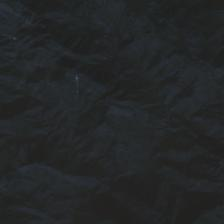landslides: (75, 75, 81, 95), (110, 106, 120, 117)
